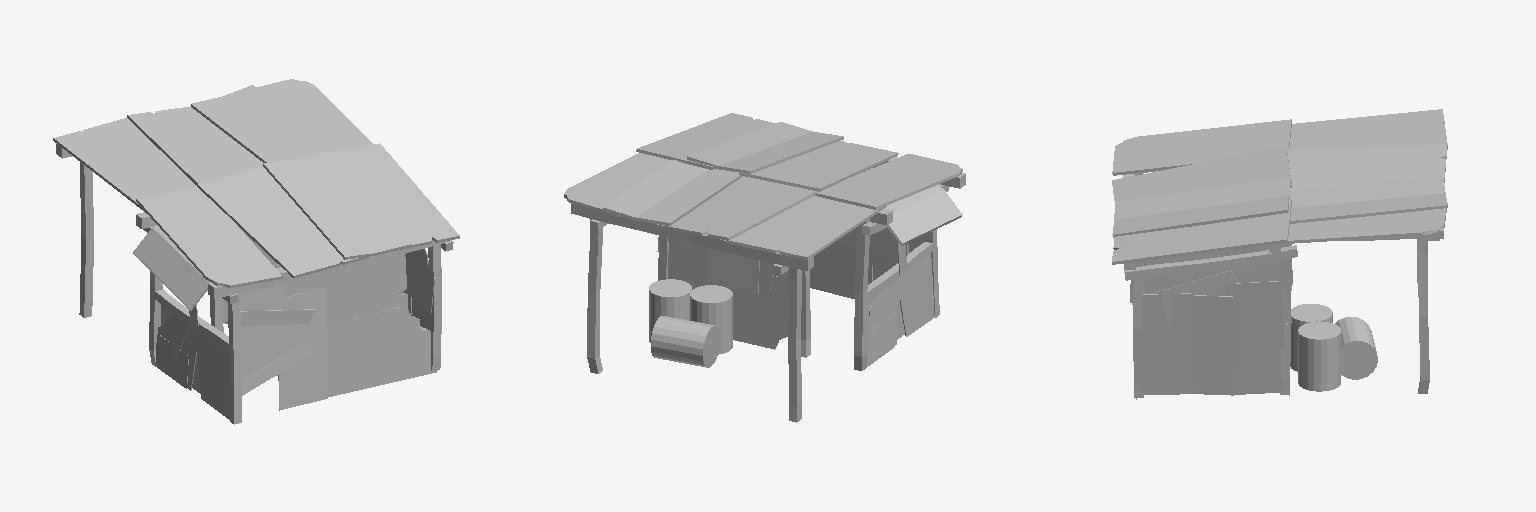
Rendered from hut.obj.
3 renders of one model, left to right at view 1: azimuth 30°, elevation 25°; view 2: azimuth 150°, elevation 25°; view 3: azimuth 270°, elevation 25°, orthographic.
Visible parts, largest first — view 1: pasted__pasted__pasted__pCube1_pasted__pasted__pasted__lambert1, pasted__pCube1_pasted__lambert8_0, pasted__pasted__pasted__pCube2_pasted__pasted__pasted__lamber, pasted__pasted__pasted__pasted__pCube1_pasted__pasted__pasted__, pCube1_lambert2_0, pasted__pasted__pCube1_pasted__pasted__lambert2_0, pasted__pCube1_pasted__lambert2_0, pasted__pasted__pCube1_pasted__pasted__lambert12_0, pasted__pasted__pasted__pCube1_pasted__pasted__pasted__lambert, pasted__pasted__pCube3_pasted__pasted__lambert15_0, pasted__pasted__pasted__pCube1_pasted__pasted__pasted__lambert2, pasted__pasted__pasted__pCube2_pasted__pasted__pasted__lambert9 (+12 smaller); view 2: pCube1_lambert2_0, pasted__pCube1_pasted__lambert2_0, pasted__pasted__pCube1_pasted__pasted__lambert2_0, pasted__pasted__pasted__pasted__pCube1_pasted__pasted__pasted__, pasted__pasted__pasted__pCube1_pasted__pasted__pasted__lambert1, pasted__pCube1_pasted__lambert8_0, pasted__pasted__pCube2_pasted__pasted__lambert9_0, pasted__pasted__pasted__pCube2_pasted__pasted__pasted__lambert9, pasted__pasted__pCube1_pasted__pasted__lambert12_0, pasted__pCylinder1_pasted__lambert11_0, pasted__pasted__pasted__pCube1_pasted__pasted__pasted__lambert2, pasted__pasted__pasted__pCube1_pasted__pasted__pasted__lamber (+15 smaller); view 3: pasted__pasted__pasted__pCube1_pasted__pasted__pasted__lambert1, pasted__pasted__pasted__pasted__pCube1_pasted__pasted__pasted__, pasted__pCube1_pasted__lambert2_0, pasted__pCube2_pasted__lambert9_0, pasted__pasted__pCube1_pasted__pasted__lambert2_0, pasted__pasted__pCube1_pasted__pasted__lambert12_0, pCube1_lambert2_0, pasted__pasted__pasted__pCube2_pasted__pasted__pasted__lambert, pasted__pCube1_pasted__lambert8_0, pasted__pasted__pCube2_pasted__pasted__lambert14_0, pasted__pasted__pasted__pCube1_pasted__pasted__pasted__lambert2, pCylinder1_lambert5_0 (+9 smaller).
Boxes of the visible parts, <box> form: pasted__pasted__pasted__pCube1_pasted__pasted__pasted__lambert1: <box>263,151,410,259</box>; pasted__pCube1_pasted__lambert8_0: <box>197,166,368,278</box>; pasted__pasted__pasted__pCube2_pasted__pasted__pasted__lamber: <box>327,306,436,396</box>; pasted__pasted__pasted__pasted__pCube1_pasted__pasted__pasted__: <box>136,187,282,287</box>; pCube1_lambert2_0: <box>53,118,196,213</box>; pasted__pasted__pCube1_pasted__pasted__lambert2_0: <box>191,85,337,162</box>; pasted__pCube1_pasted__lambert2_0: <box>127,106,263,184</box>; pasted__pasted__pCube1_pasted__pasted__lambert12_0: <box>332,143,459,249</box>; pasted__pasted__pasted__pCube1_pasted__pasted__pasted__lambert: <box>282,254,407,329</box>; pasted__pasted__pCube3_pasted__pasted__lambert15_0: <box>277,288,327,410</box>; pasted__pasted__pasted__pCube1_pasted__pasted__pasted__lambert2: <box>256,79,373,150</box>; pasted__pasted__pasted__pCube2_pasted__pasted__pasted__lambert9: <box>158,313,229,419</box>; pCube1_lambert2_0: <box>726,196,886,259</box>; pasted__pCube1_pasted__lambert2_0: <box>653,176,817,239</box>; pasted__pasted__pCube1_pasted__pasted__lambert2_0: <box>603,160,742,225</box>; pasted__pasted__pasted__pasted__pCube1_pasted__pasted__pasted__: <box>815,154,962,209</box>; pasted__pasted__pasted__pCube1_pasted__pasted__pasted__lambert1: <box>687,122,843,173</box>; pasted__pCube1_pasted__lambert8_0: <box>739,141,898,191</box>; pasted__pasted__pCube2_pasted__pasted__lambert9_0: <box>667,252,788,349</box>; pasted__pasted__pasted__pCube2_pasted__pasted__pasted__lambert9: <box>867,253,934,344</box>; pasted__pasted__pCube1_pasted__pasted__lambert12_0: <box>636,113,774,169</box>; pasted__pCylinder1_pasted__lambert11_0: <box>651,316,720,367</box>; pasted__pasted__pasted__pCube1_pasted__pasted__pasted__lambert2: <box>564,153,671,216</box>; pasted__pasted__pasted__pCube1_pasted__pasted__pasted__lamber: <box>884,185,962,245</box>; pasted__pasted__pasted__pCube1_pasted__pasted__pasted__lambert1: <box>1112,177,1290,237</box>; pasted__pasted__pasted__pasted__pCube1_pasted__pasted__pasted__: <box>1112,119,1291,175</box>; pasted__pCube1_pasted__lambert2_0: <box>1287,144,1447,190</box>; pasted__pCube2_pasted__lambert9_0: <box>1224,281,1284,394</box>; pasted__pasted__pCube1_pasted__pasted__lambert2_0: <box>1290,176,1447,223</box>; pasted__pasted__pCube1_pasted__pasted__lambert12_0: <box>1112,199,1291,264</box>; pCube1_lambert2_0: <box>1289,109,1447,150</box>; pasted__pasted__pasted__pCube2_pasted__pasted__pasted__lambert: <box>1143,293,1193,394</box>; pasted__pCube1_pasted__lambert8_0: <box>1112,146,1291,200</box>; pasted__pasted__pCube2_pasted__pasted__lambert14_0: <box>1192,295,1235,395</box>; pasted__pasted__pasted__pCube1_pasted__pasted__pasted__lambert2: <box>1272,203,1447,244</box>; pCylinder1_lambert5_0: <box>1298,321,1340,391</box>.
Bounding box in the file's own units: 2.62 × 1.74 × 2.94.